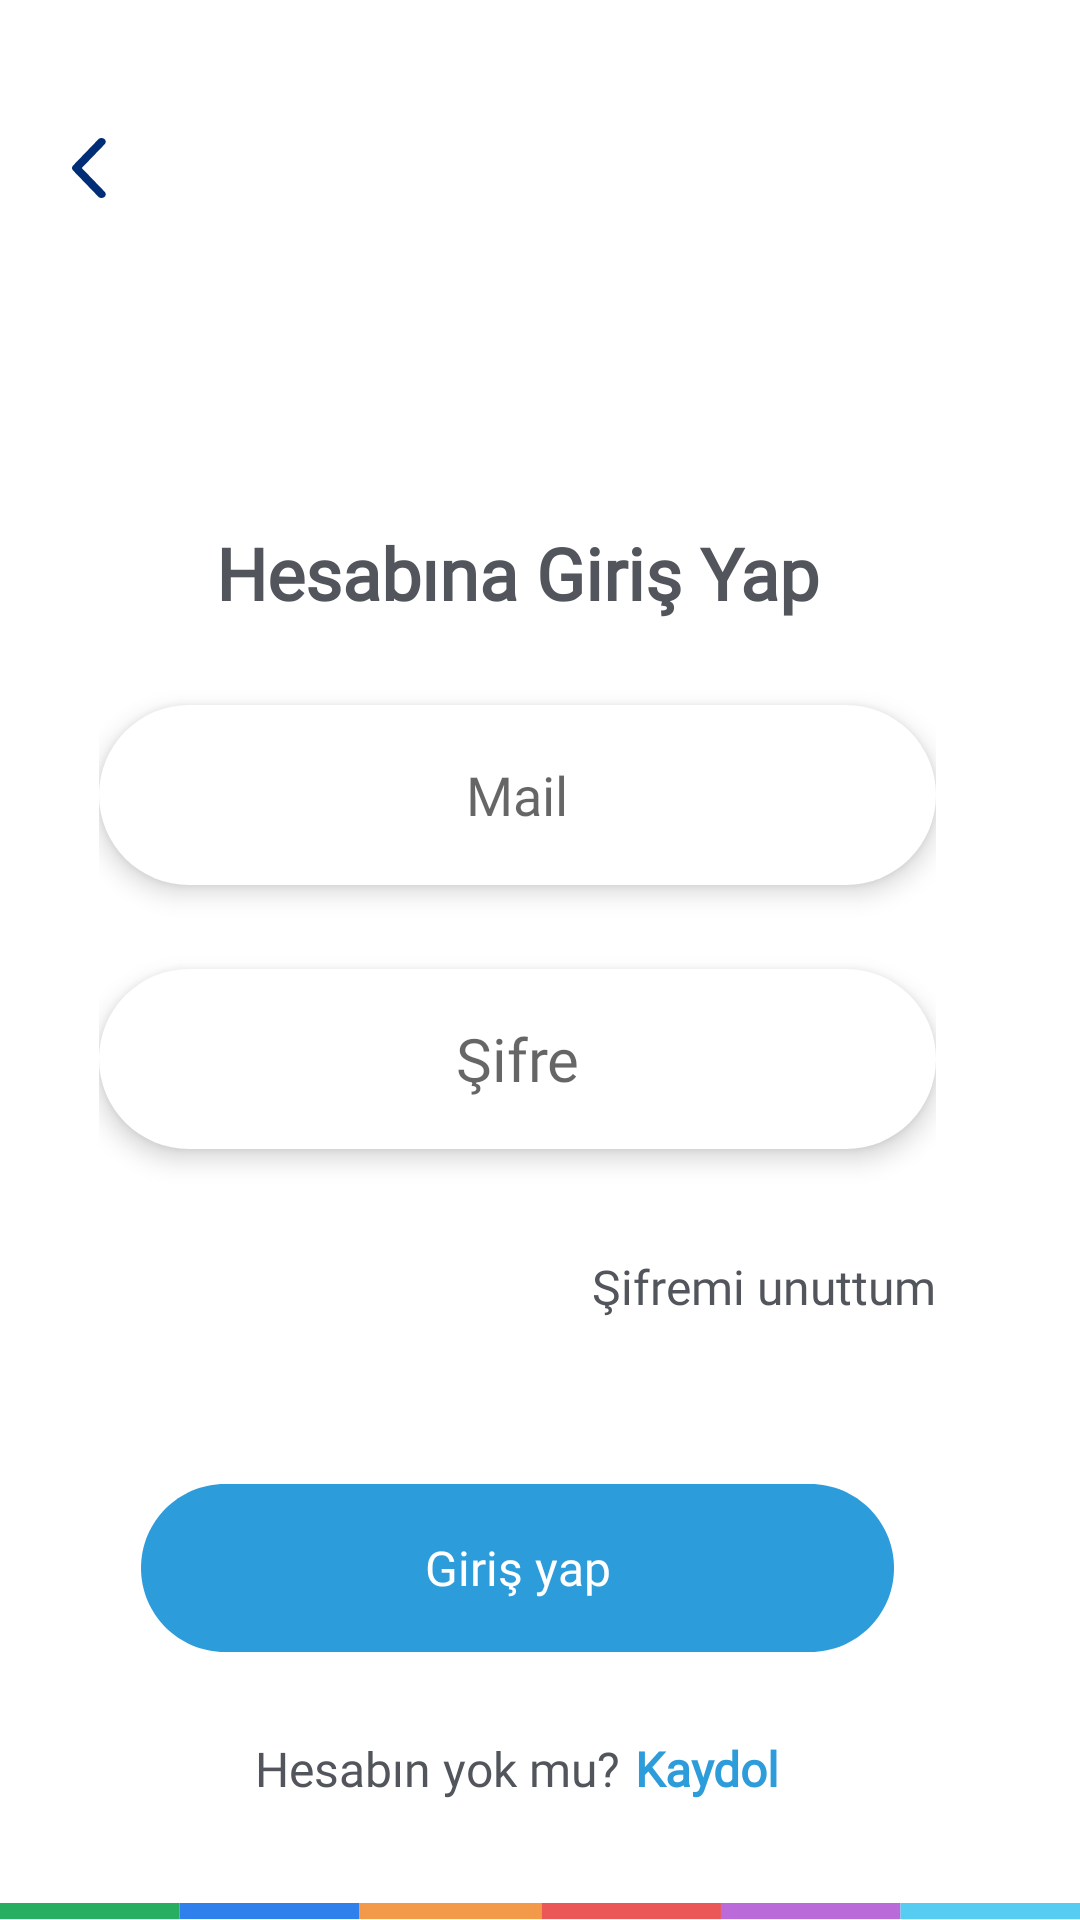

Icons on this 1080×1920 Android screen, each with the point to tap as (x=x, y=y):
back: (x=89, y=168)
